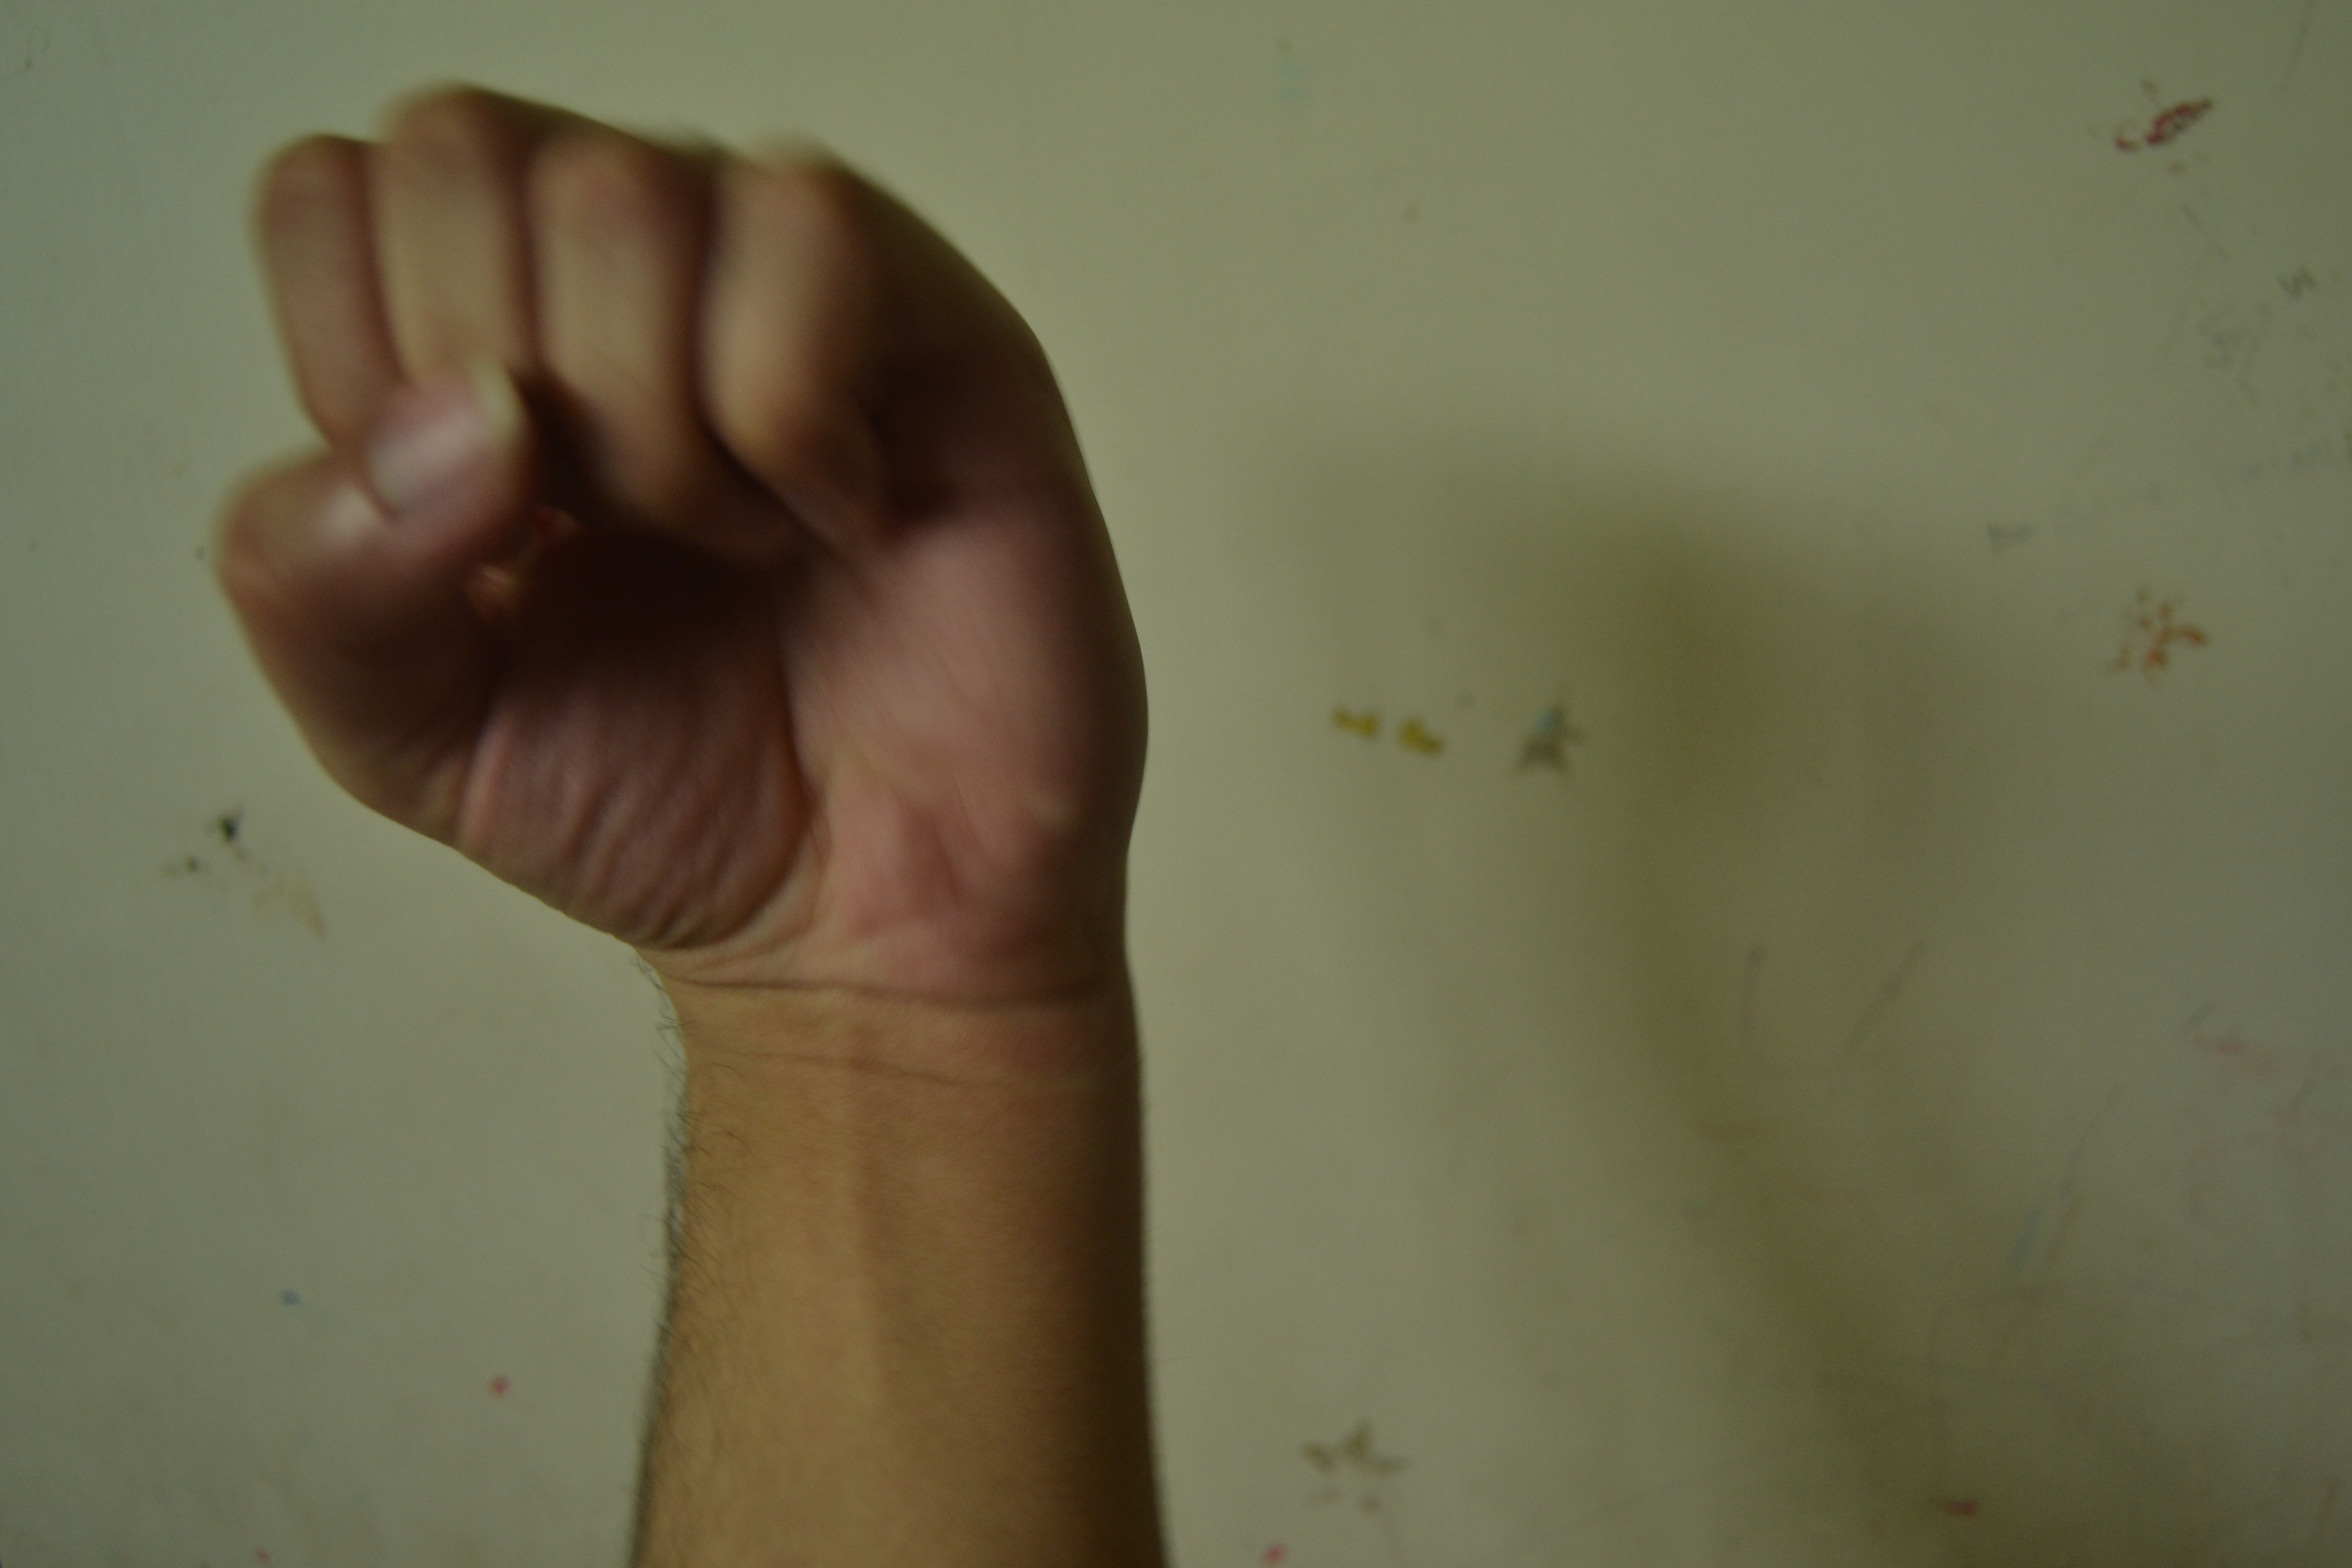click: (126, 129, 1388, 1104)
